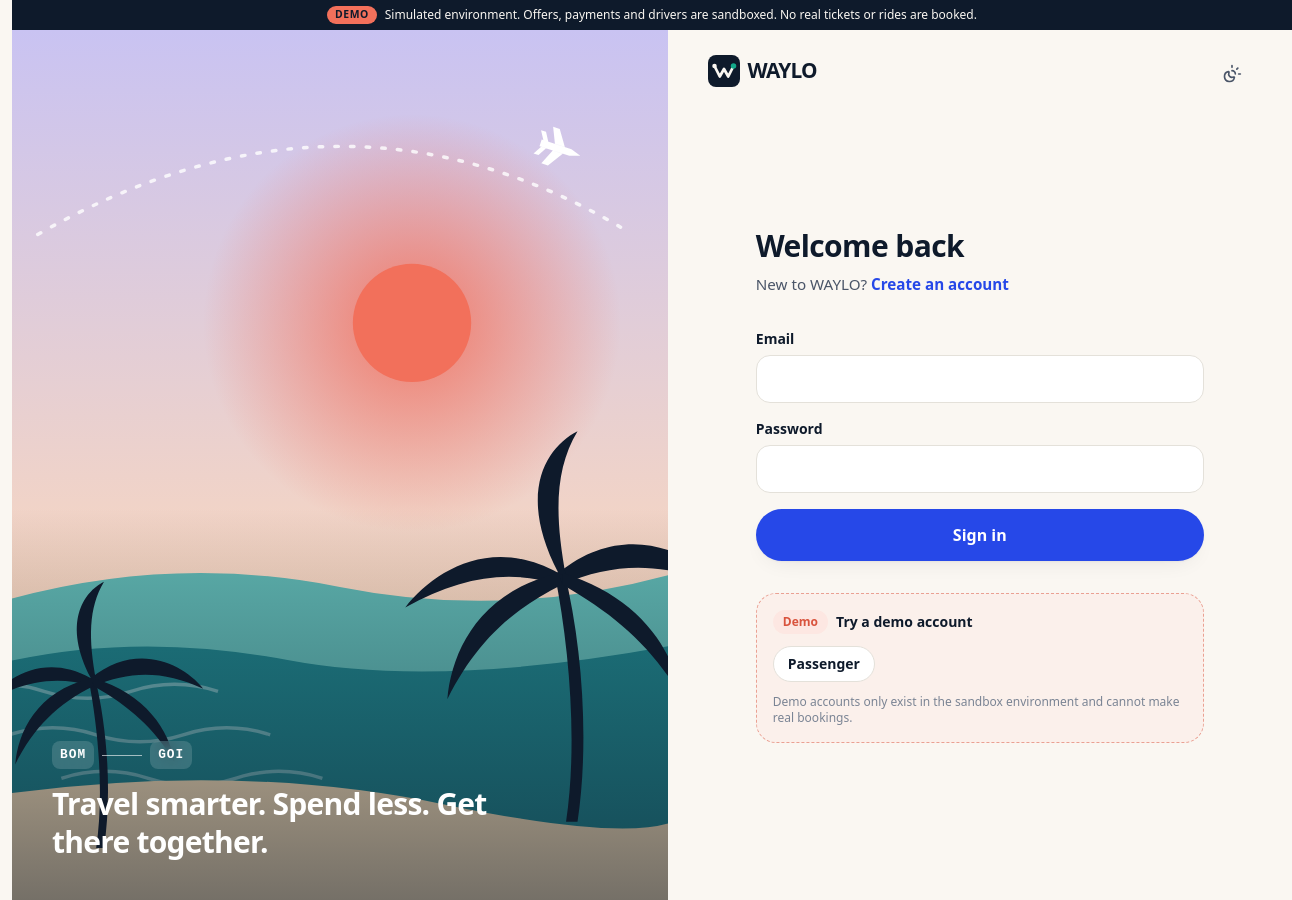
Scenario: Login page › shows the server error for bad credentials
Step 1. Type "ana@example.com" into the field labelled "Email" → [980, 379], box [756,355,1204,403]
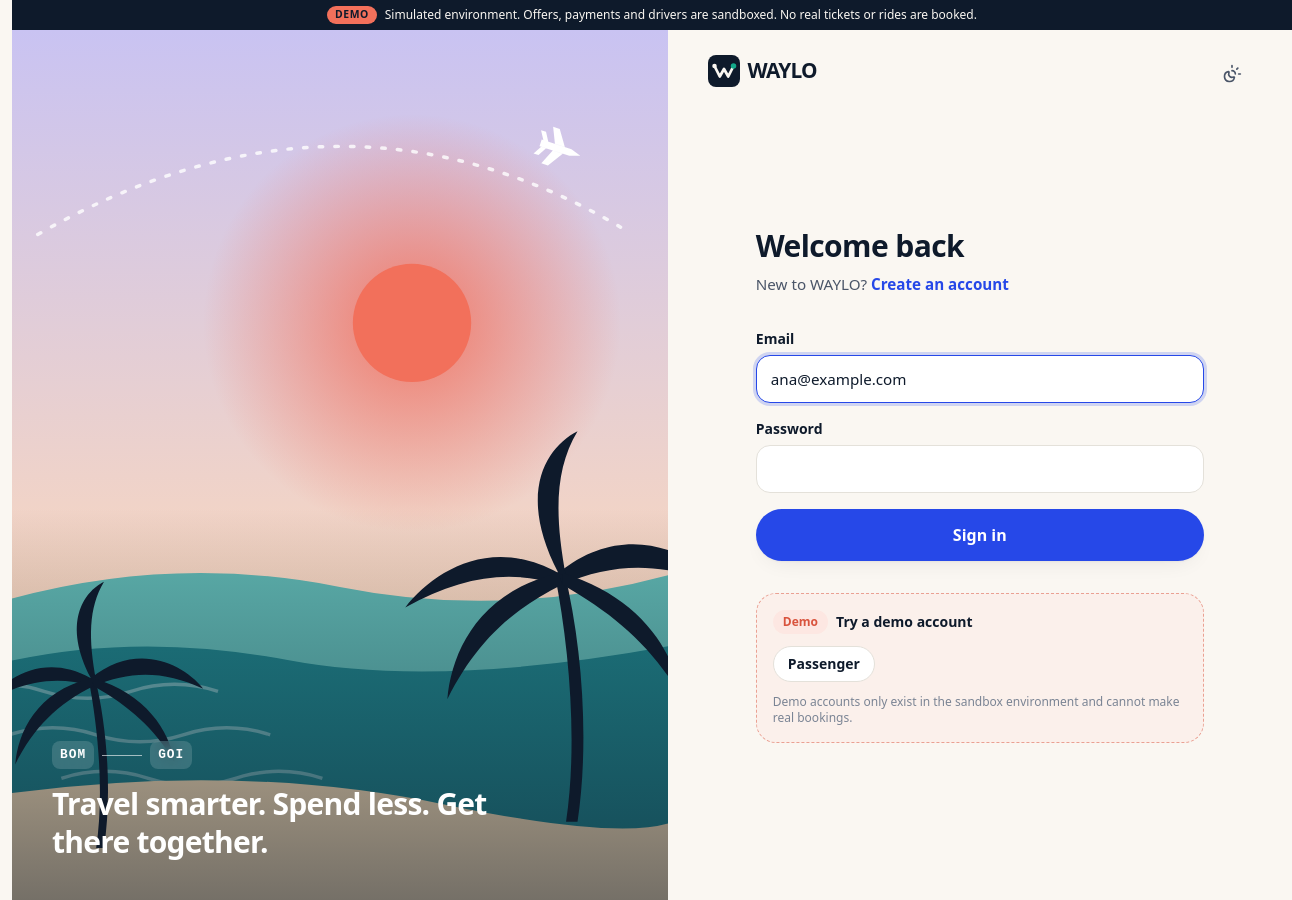
Step 2. Type "wrongpass1" into the password field labelled "Password" → [980, 469], box [756,445,1204,493]
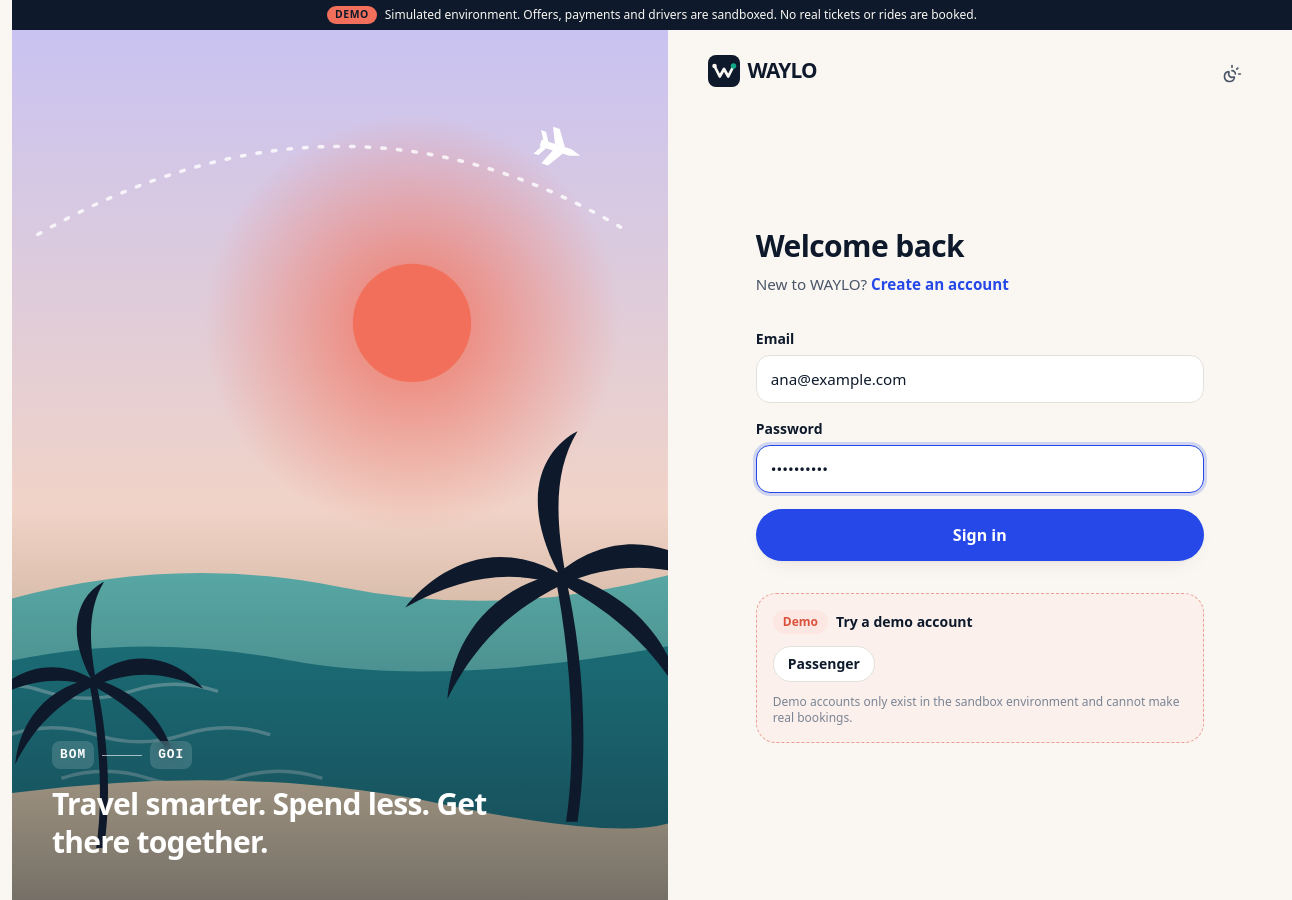
Step 3. Click the button "Sign in" → [980, 535], box [756,509,1204,561]
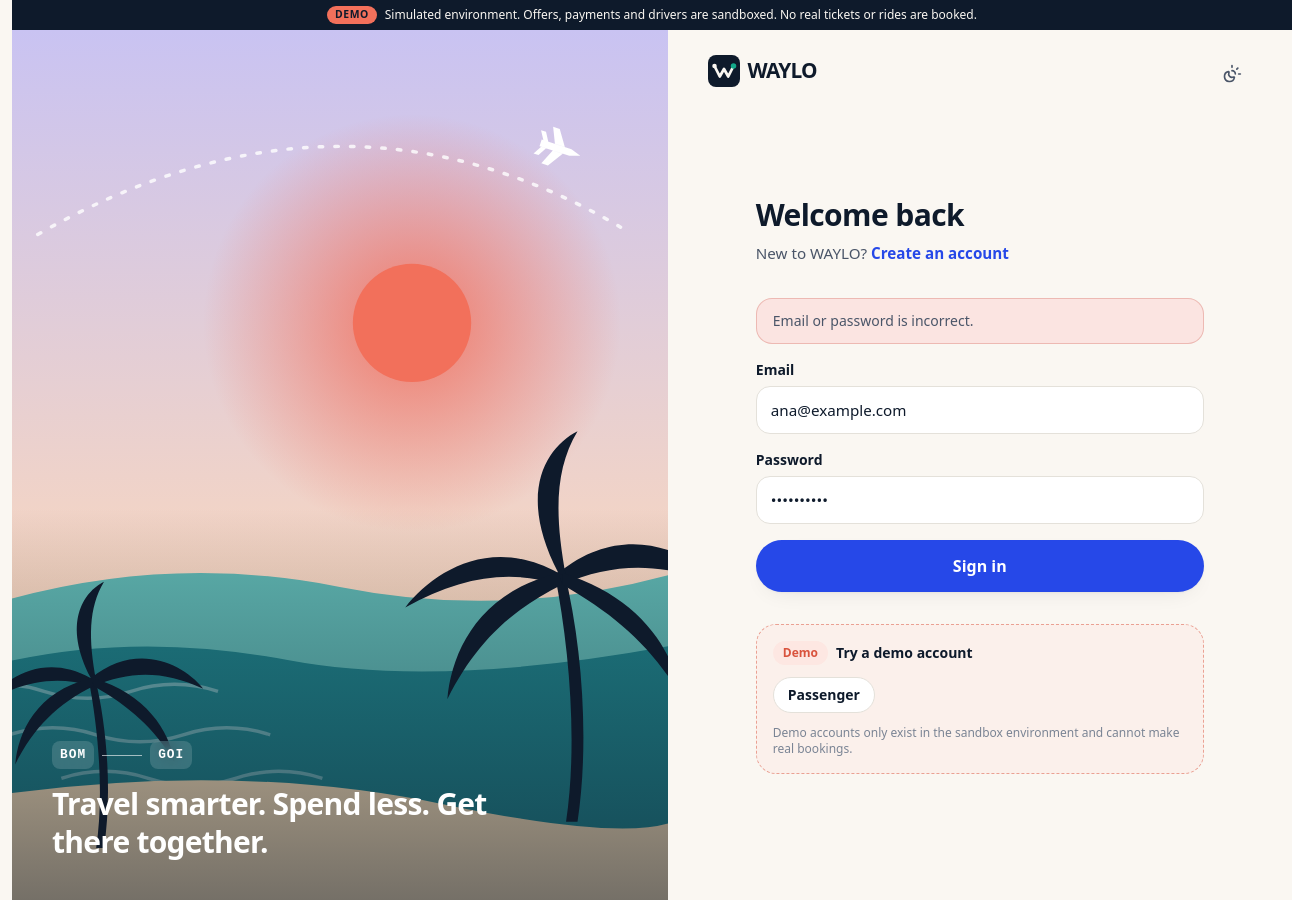
Expected: the text "Email or password is incorrect." is shown, [773,311,974,330]
